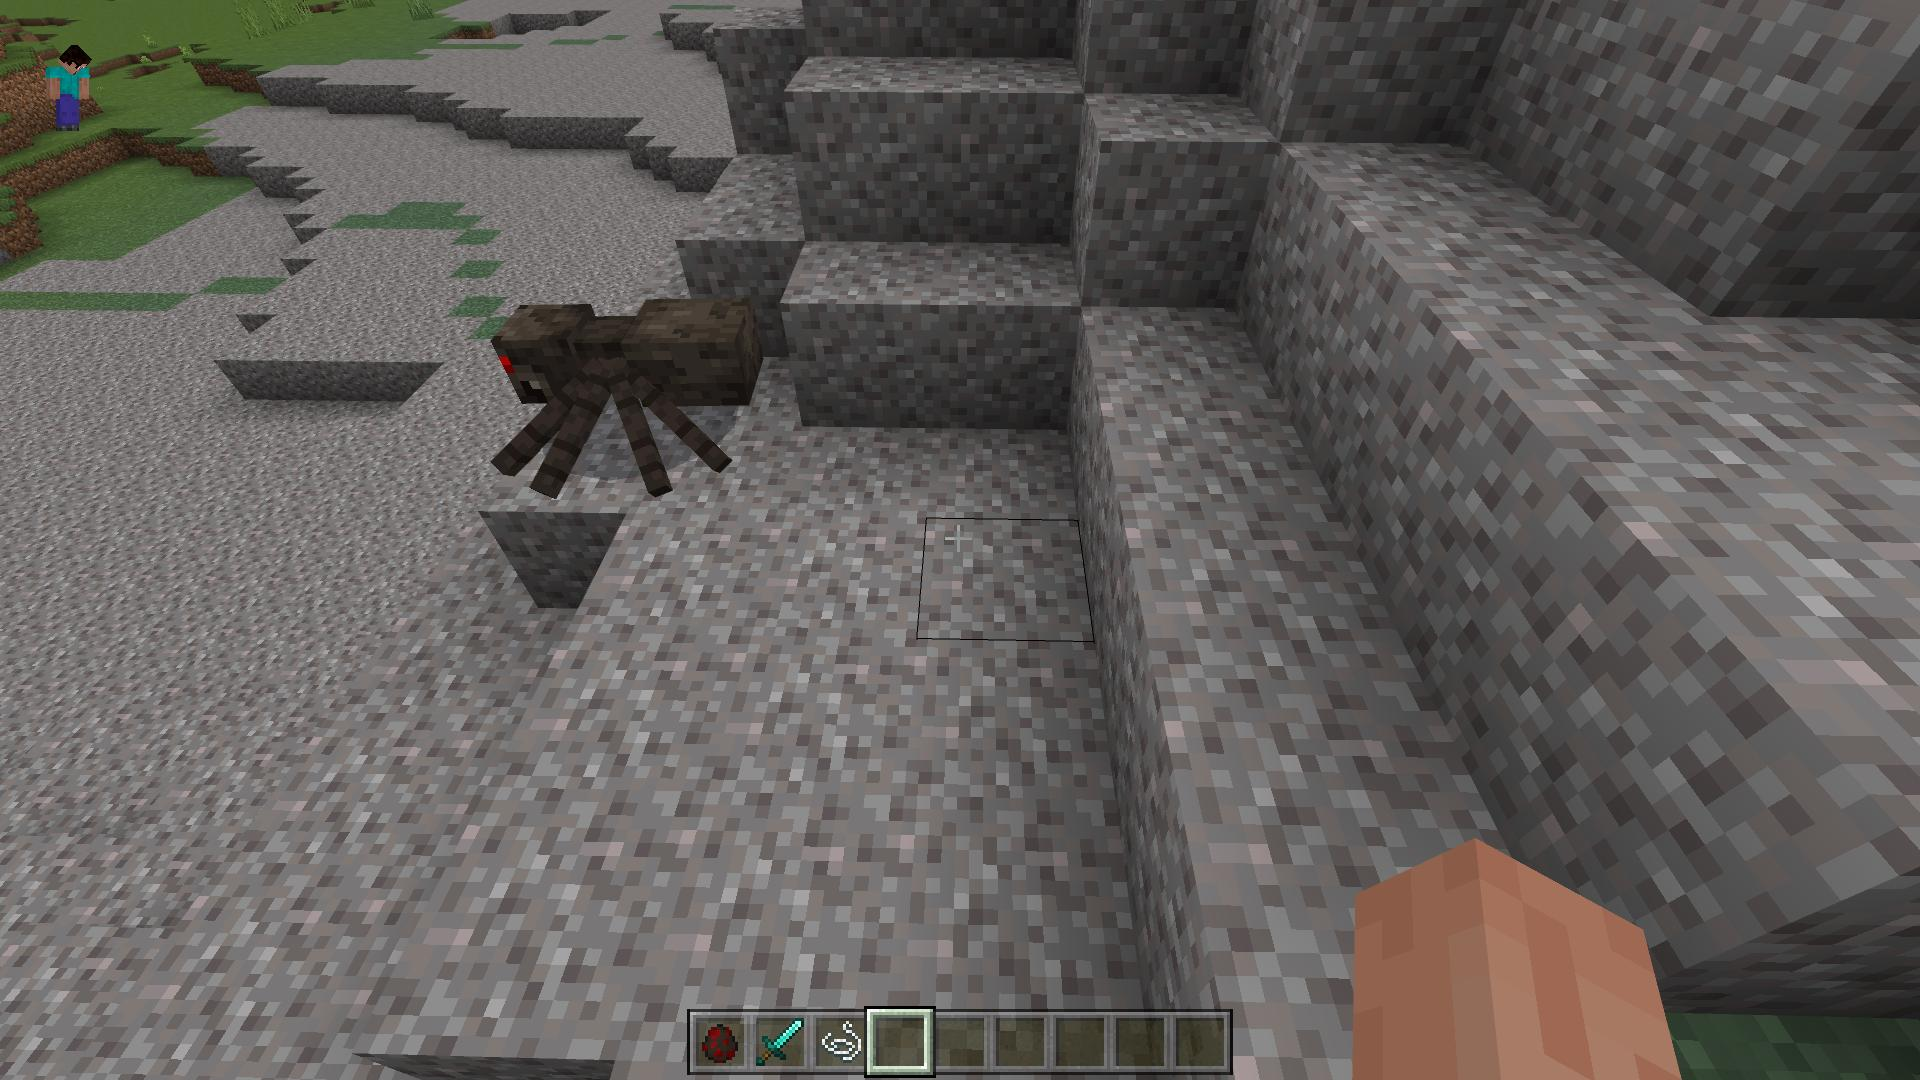spider: (485, 285, 764, 500)
